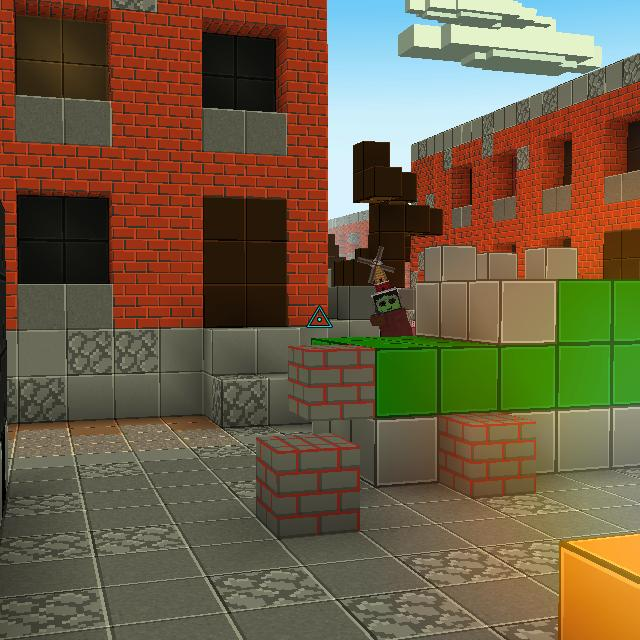enemy: (356, 245, 414, 338)
